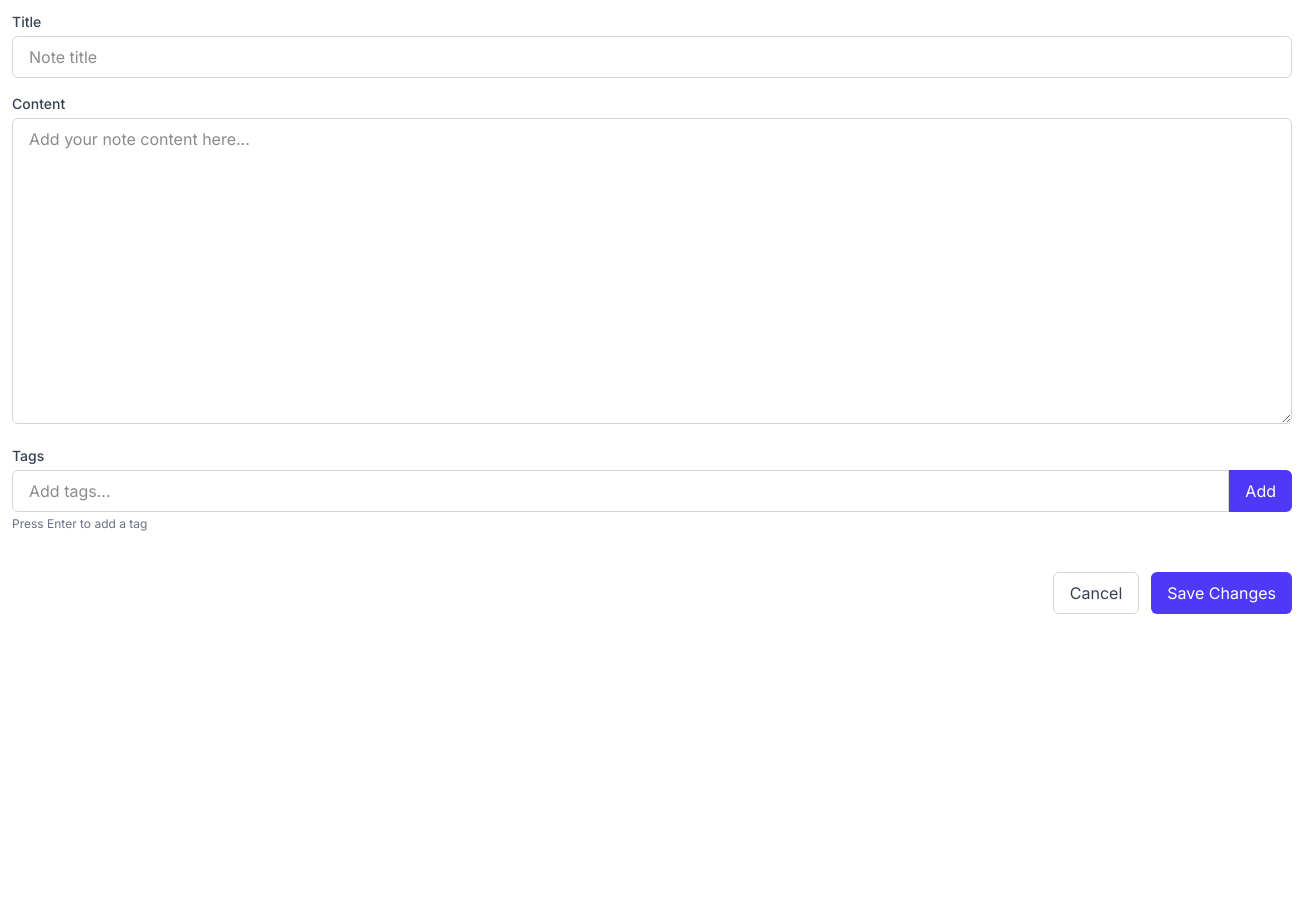
Test: NoteEditor Component › should add a tag when clicking the Add button
In the field labelled "Tags": {"x": 621, "y": 491} [12,470,1229,512], type "new-tag"
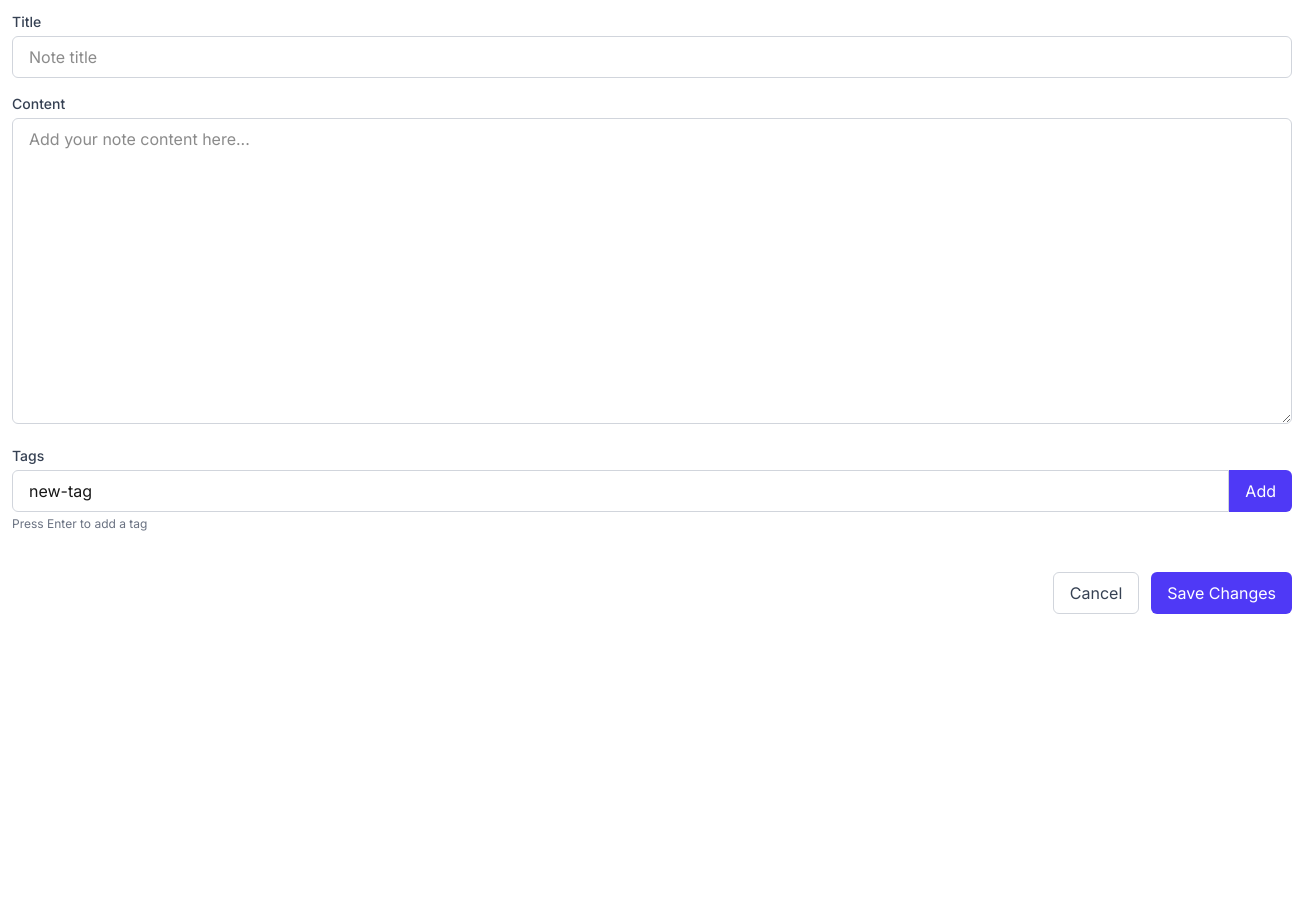
Click the button "Add": {"x": 1261, "y": 491} [1229,470,1292,512]
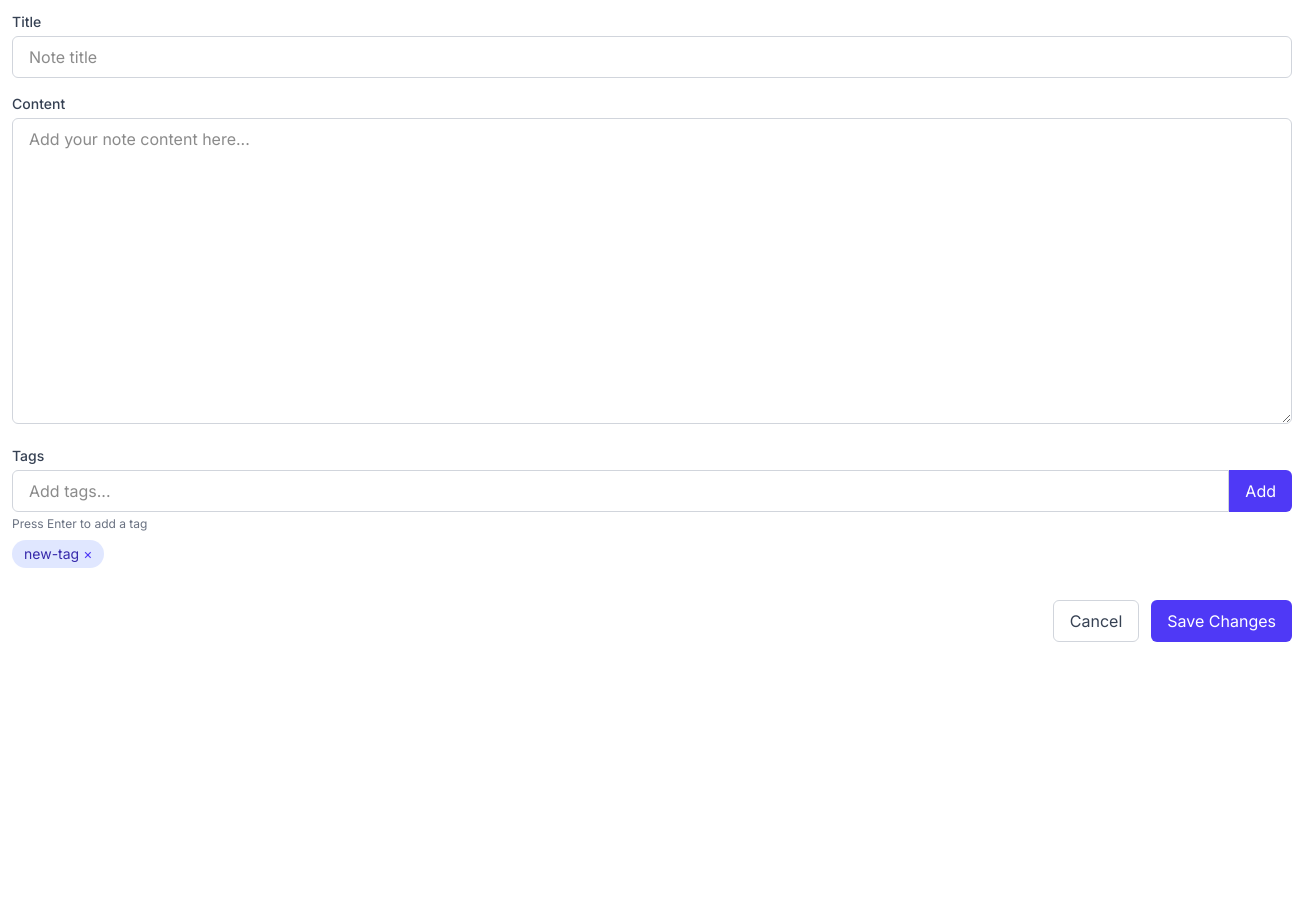
Expected: the text "new-tag" is shown, [24,545,79,562]
